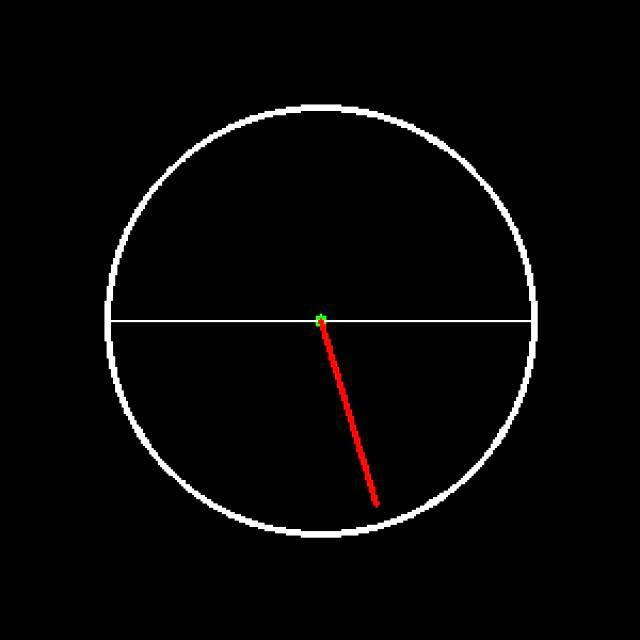Needle_Tip: (332, 465, 415, 527)
Needle_base: (294, 295, 354, 352)
